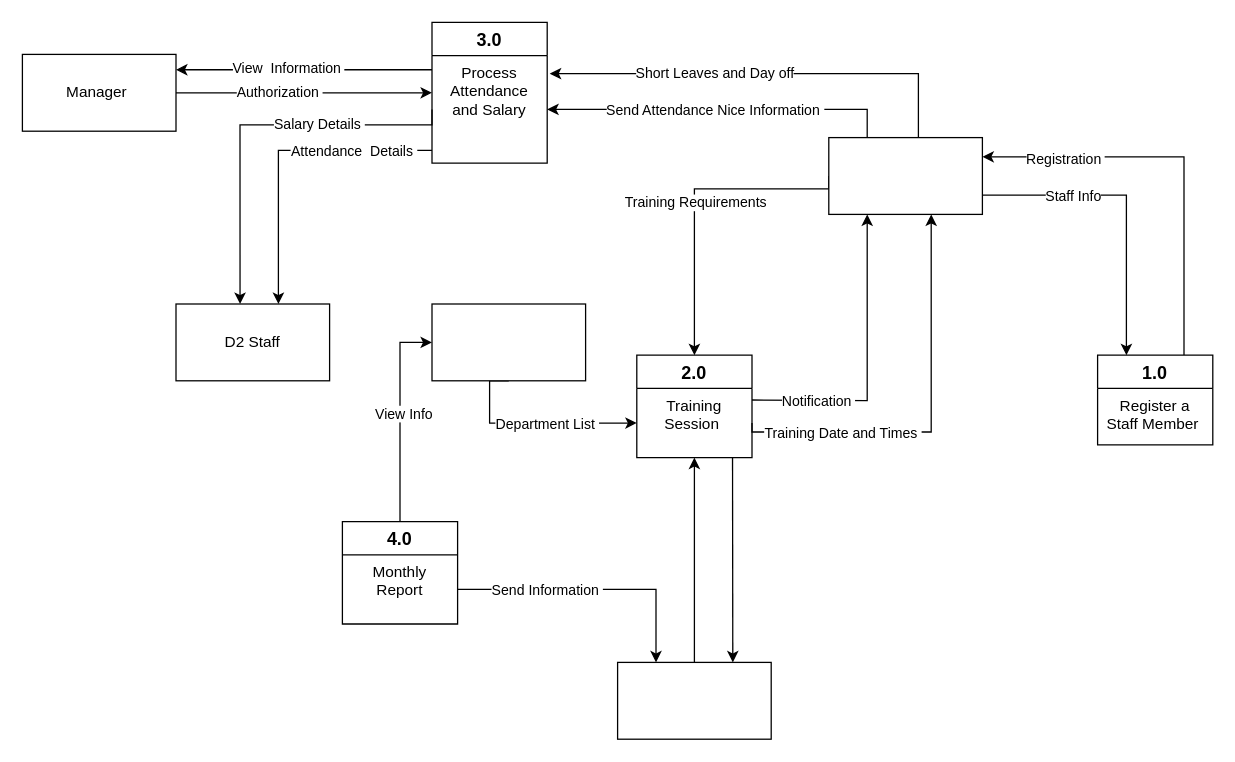
The diagram is 1235 pixels wide and 762 high, and some of its shapes have lost their labels. Each missing label, with the centre of its shape:
D1 Manager: (508,342)
Department: (693,700)
Staff: (905,175)
